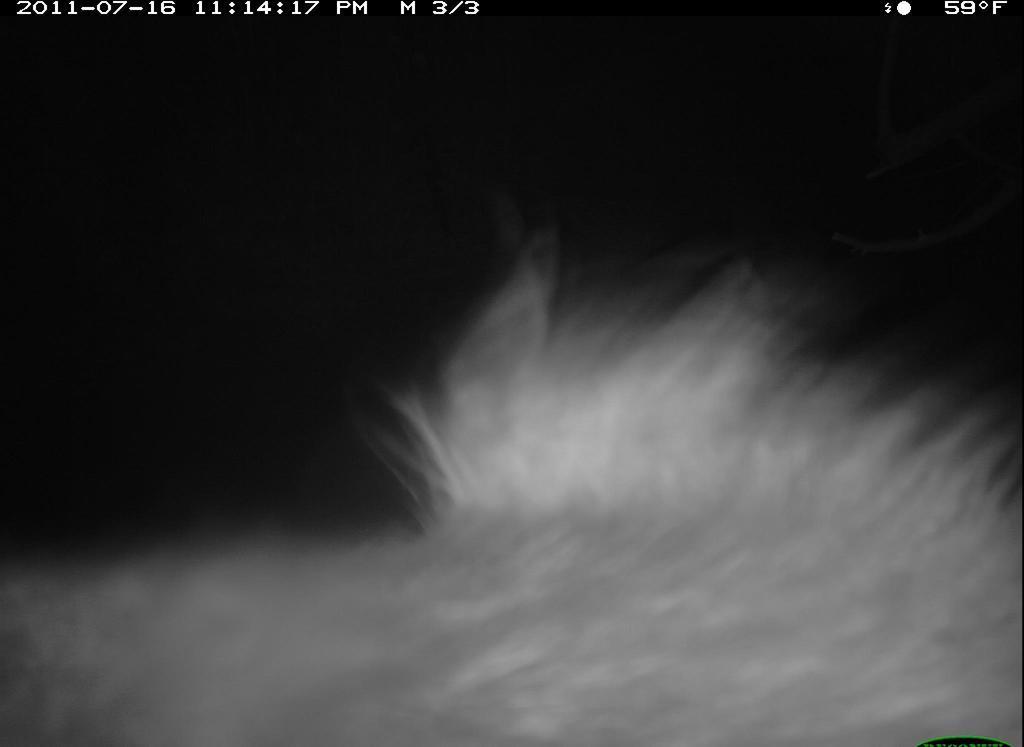raccoon: (2, 259, 1019, 747)
